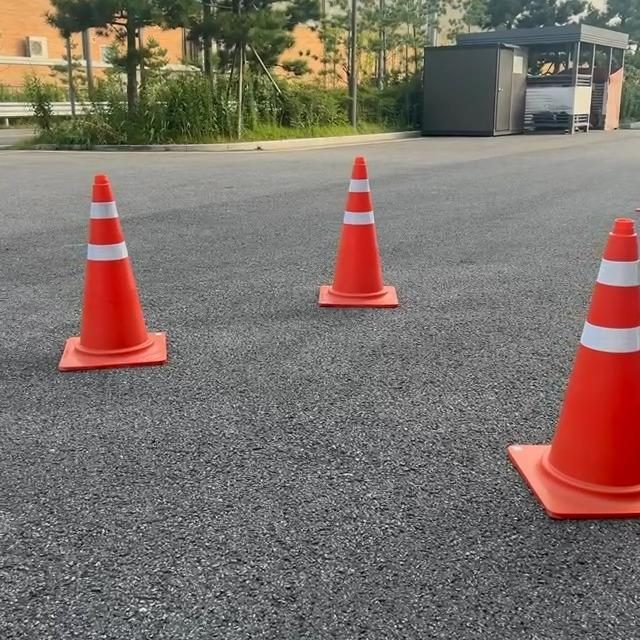fallen_object: (447, 220, 632, 481), (16, 153, 188, 391), (230, 109, 396, 348)
